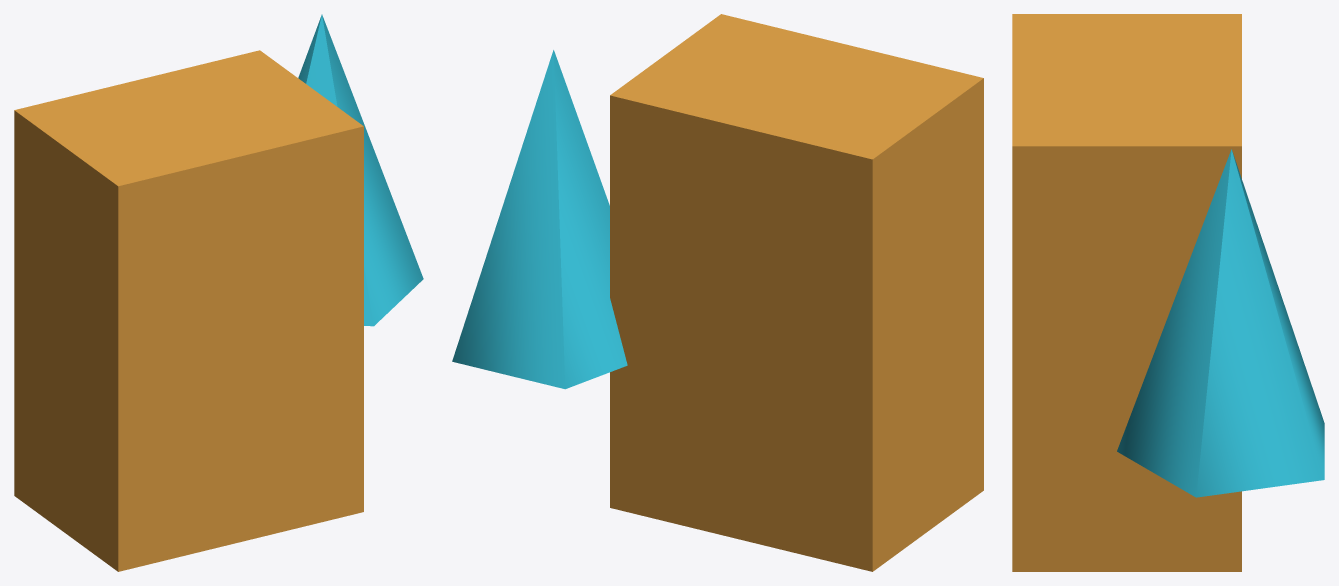
The model's file is frame-00.glb.
3 renders of one model, left to right at view 1: azimuth 30°, elevation 25°; view 2: azimuth 150°, elevation 25°; view 3: azimuth 270°, elevation 25°, orthographic. The views are drawn at different scales.
Bounding box in the file's own units: 0.4746 × 0.48 × 0.299.
